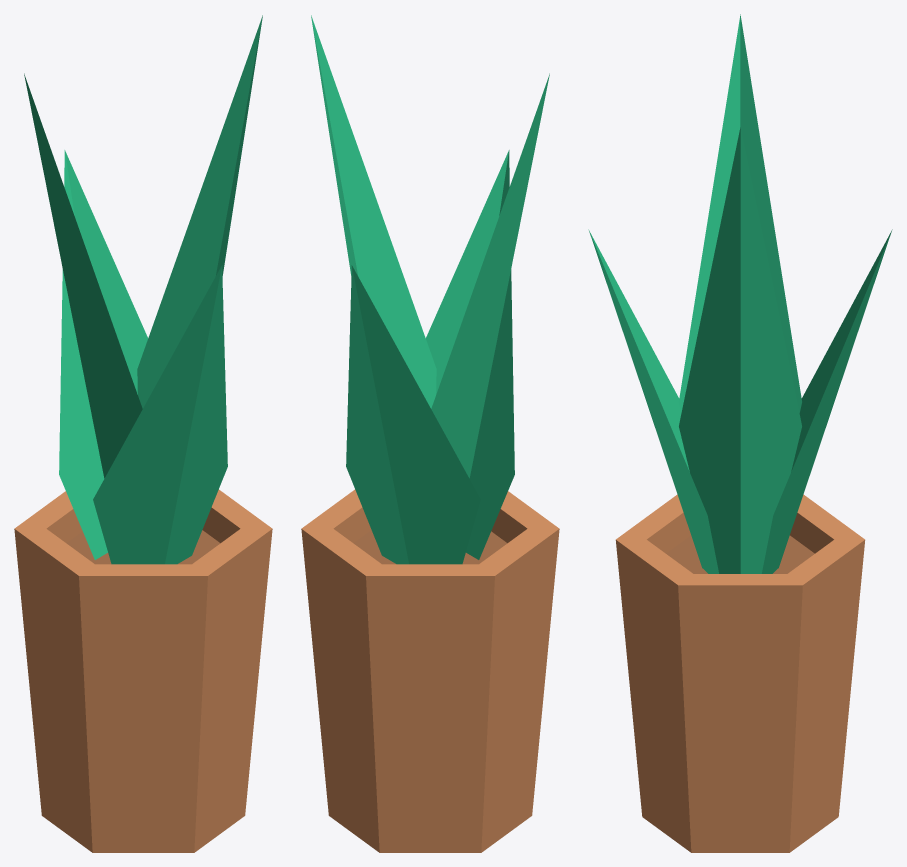
Rendered from pottedPlant.obj.
3 renders of one model, left to right at view 1: azimuth 30°, elevation 25°; view 2: azimuth 150°, elevation 25°; view 3: azimuth 270°, elevation 25°, orthographic. The views are drawn at different scales.
Parts seen in each view (by area): view 1: pottedPlant, plant; view 2: pottedPlant, plant; view 3: pottedPlant, plant.
Boxes of the visible parts, x1,y1,x2,y2 form: pottedPlant: [14, 489, 272, 852]; plant: [24, 15, 262, 564]; pottedPlant: [301, 489, 559, 852]; plant: [311, 15, 549, 564]; pottedPlant: [615, 494, 865, 852]; plant: [588, 14, 892, 573].
Bounding box in the file's own units: 0.2121 × 0.654 × 0.2415.
